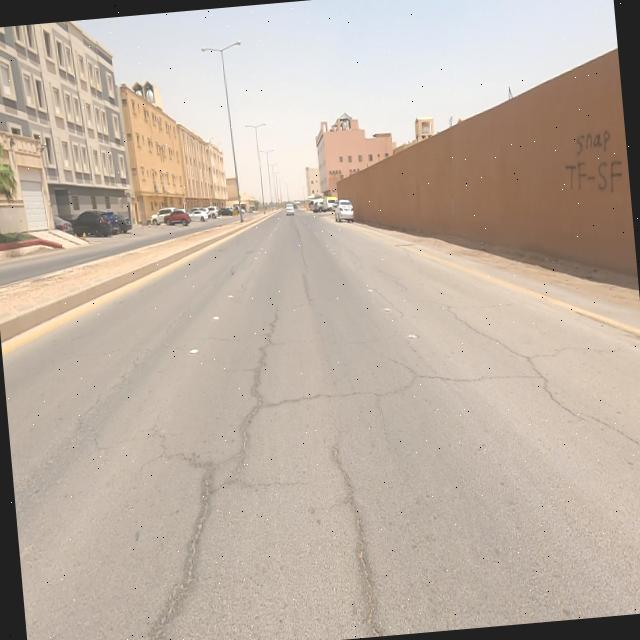Graffiti: (564, 128, 624, 194)
